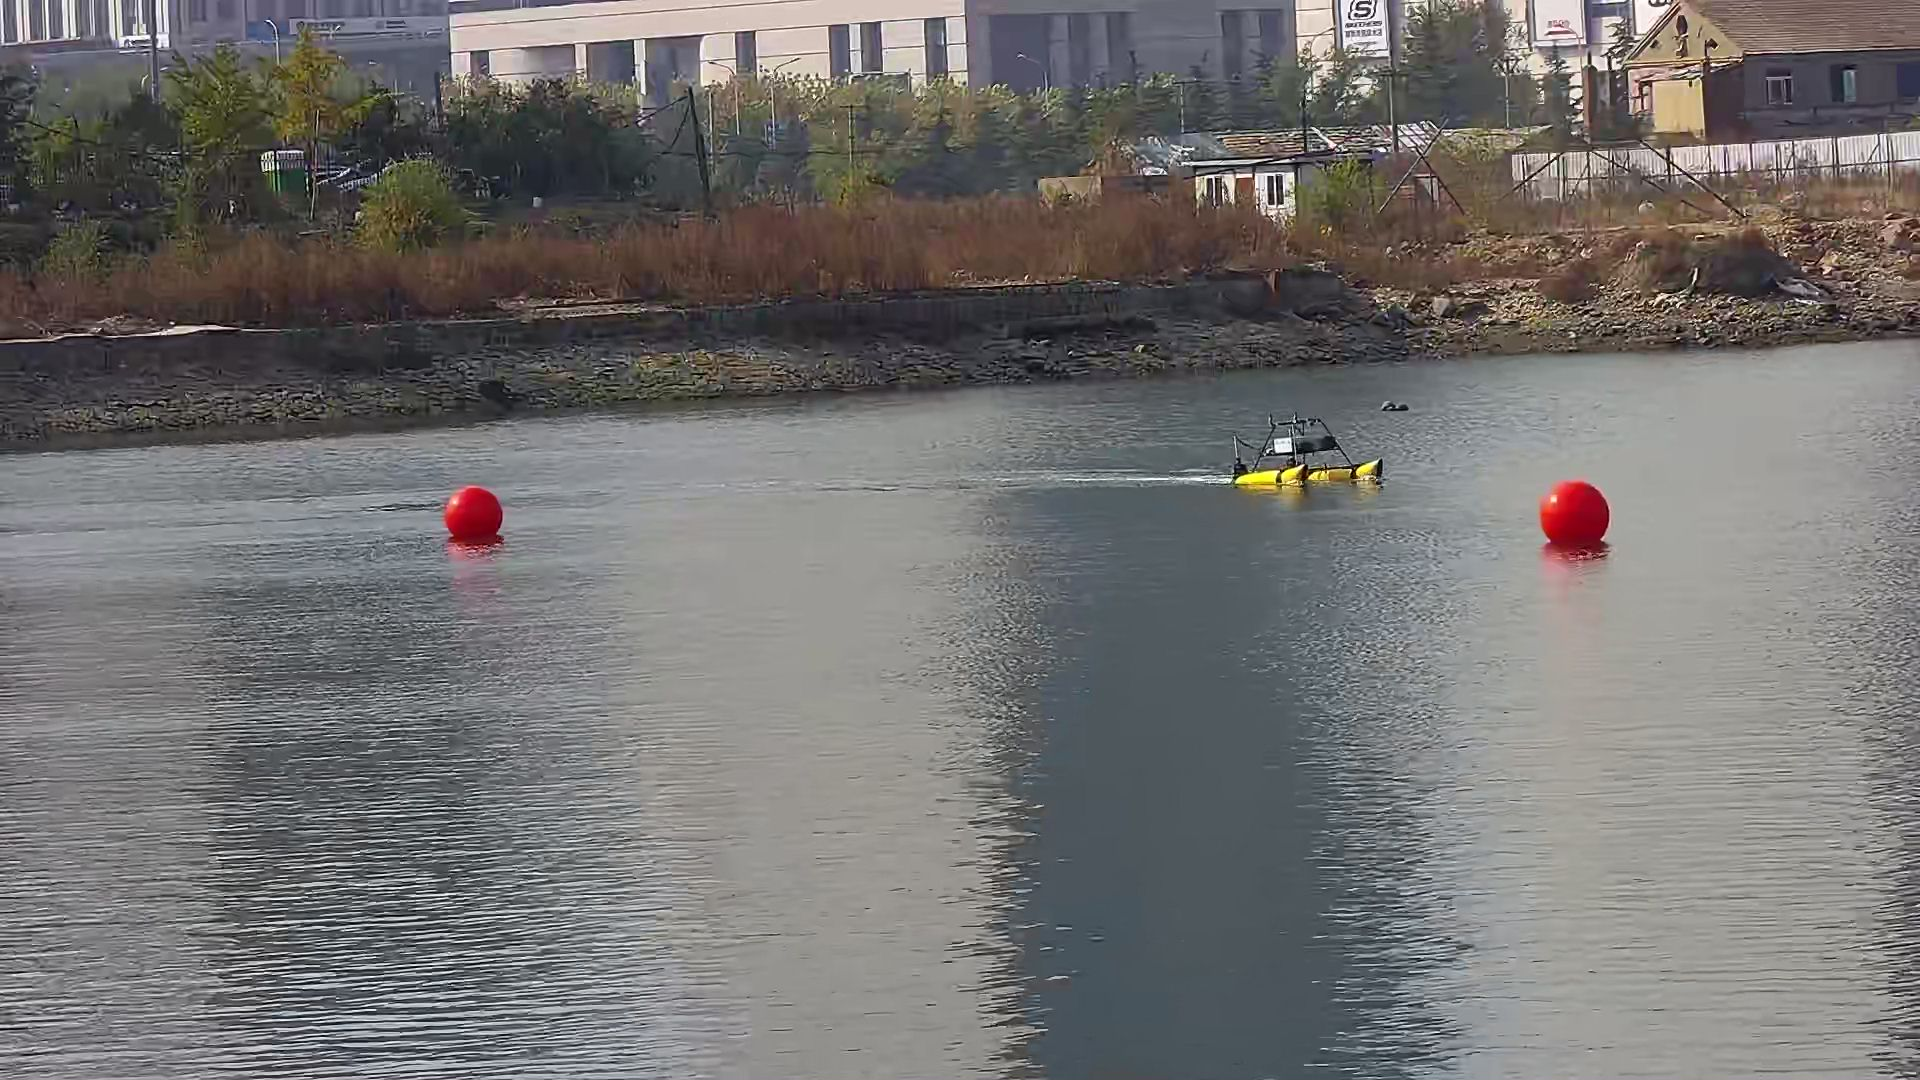ball: (1538, 480, 1611, 550), (435, 484, 506, 541)
boat: (1224, 415, 1389, 493)
rubbish: (1381, 401, 1407, 411)
